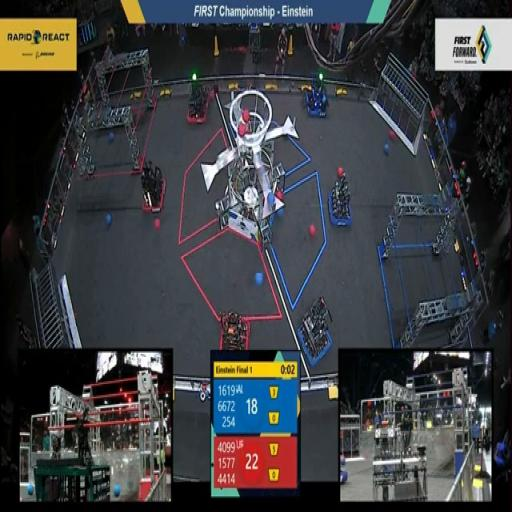robot: (293, 292, 333, 366), (212, 300, 252, 358), (137, 152, 167, 219), (300, 58, 329, 118), (326, 170, 354, 230), (182, 76, 210, 126)
